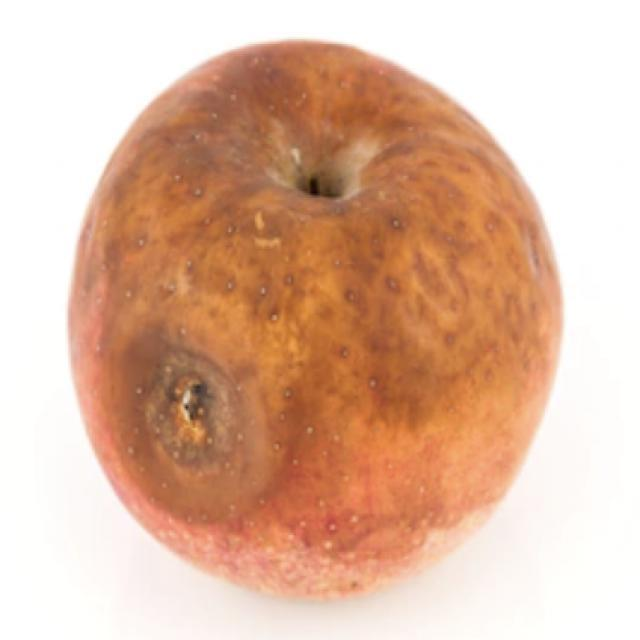Rotten: (72, 37, 555, 593)
